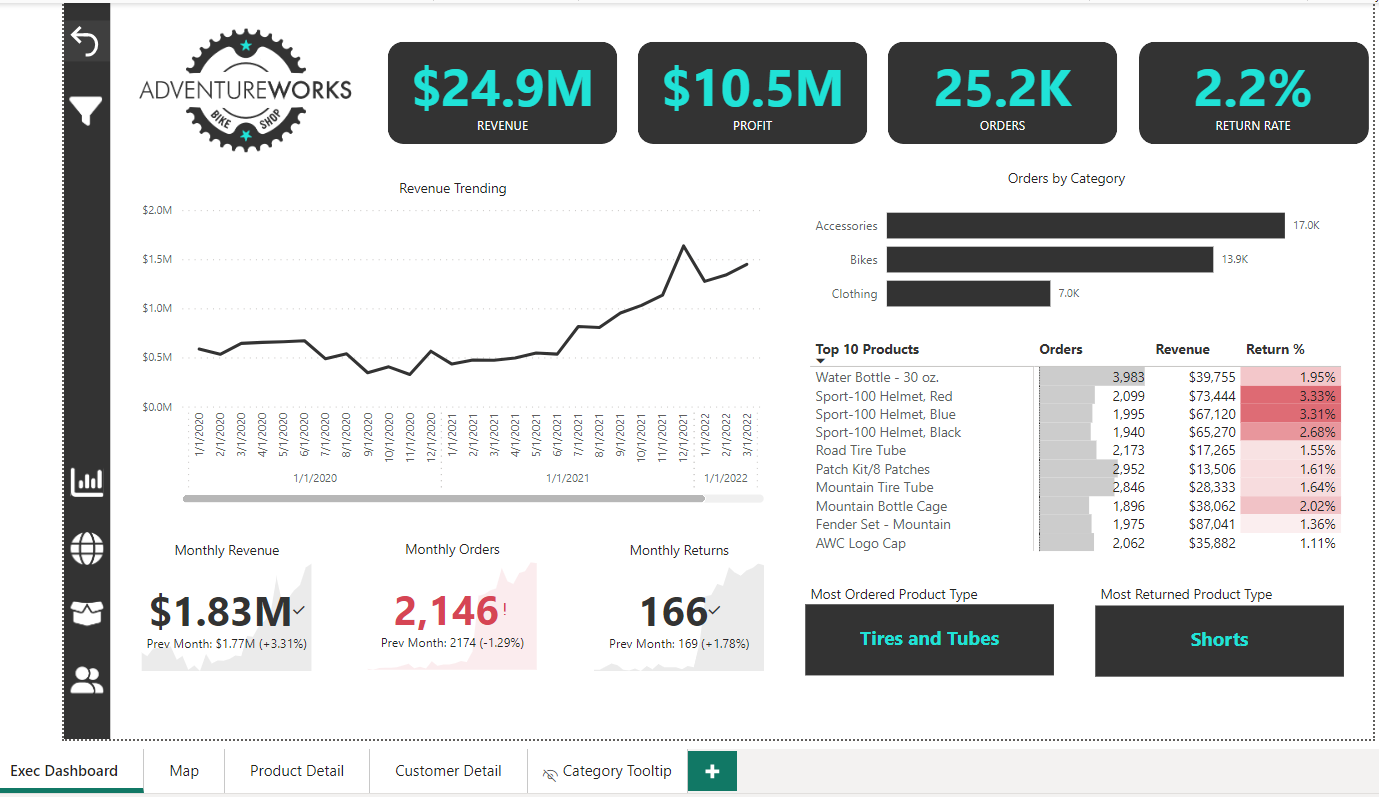

The dashboard page shown, as its layout file describes it:
{"tool":"powerbi","page":{"name":"Exec Dashboard","canvas":[1280,720],"ordinal":0},"visuals":[{"type":"card","fields":{"Values":["Measure Table.Total Revenue"]},"box":[295.3,11.8,266.7,150],"z":0,"group":"g2"},{"type":"image","title":"AW Logo","box":[45.2,17.1,265.3,136.9],"z":0},{"type":"group","id":"g1","title":"KPI BG","box":[316.4,37.4,959.1,100.2],"z":0,"group":"g3"},{"type":"shape","box":[316.4,37.4,224.4,100],"z":0,"group":"g1"},{"type":"actionButton","box":[2.8,513,40.3,40.3],"z":0,"group":"g4"},{"type":"shape","title":"Left Nav BG","box":[0,0,45.2,720],"z":1000},{"type":"group","id":"g2","title":"KPI Values","box":[295.3,11.8,984.4,150],"z":1000,"group":"g3"},{"type":"card","fields":{"Values":["Measure Table.Return Rate"]},"box":[1046.4,11.8,233.3,150],"z":1000,"group":"g2"},{"type":"shape","box":[561.1,37.4,224.4,100],"z":1000,"group":"g1"},{"type":"actionButton","box":[2.8,448.6,40.3,40.3],"z":1000,"group":"g4"},{"type":"group","id":"g3","title":"KPIs","box":[295.3,11.8,984.7,149.4],"z":2000},{"type":"card","fields":{"Values":["Measure Table.Total Profit"]},"box":[539.7,11.8,266.7,150],"z":2000,"group":"g2"},{"type":"shape","box":[805.8,37.4,224.4,100],"z":2000,"group":"g1"},{"type":"actionButton","box":[2.8,577.4,40.3,40.3],"z":2000,"group":"g4"},{"type":"card","fields":{"Values":["Measure Table.Total Orders"]},"box":[784.2,11.8,266.7,150],"z":3000,"group":"g2"},{"type":"shape","box":[1050.6,37.4,224.9,100.2],"z":3000,"group":"g1"},{"type":"lineChart","title":"Revenue Trending","fields":{"Y":["Measure Table.Total Revenue"],"Category":["Calendar Lookup.Date Hierarchy.Start of Year","Calendar Lookup.Date Hierarchy.Start of Month","Calendar Lookup.Date Hierarchy.Start of Week","Calendar Lookup.Date Hierarchy.Date"]},"box":[70.9,171.1,618.5,322.7],"z":3000},{"type":"actionButton","box":[2.8,641.7,40.3,40.3],"z":3000,"group":"g4"},{"type":"kpi","title":"Monthly Revenue","fields":{"Indicator":["Measure Table.Total Revenue"],"TrendLine":["Calendar Lookup.Date Hierarchy.Start of Month"],"Goal":["Measure Table.Previous Month Revenue"]},"box":[70.6,525.9,176.5,132.9],"z":4000},{"type":"kpi","title":"Monthly Orders","fields":{"TrendLine":["Calendar Lookup.Date Hierarchy.Start of Month"],"Indicator":["Measure Table.Total Orders"],"Goal":["Measure Table.Previous Month Orders"]},"box":[291.8,524.7,175.3,132.9],"z":5000},{"type":"kpi","title":"Monthly Returns","fields":{"TrendLine":["Calendar Lookup.Date Hierarchy.Start of Month"],"Indicator":["Measure Table.Total Returns"],"Goal":["Measure Table.Previous Month Return"]},"box":[512.9,525.9,176.5,132.9],"z":6000},{"type":"clusteredBarChart","title":"Orders by Category","fields":{"Category":["Product Categories Lookup.CategoryName"],"Y":["Measure Table.Total Orders"]},"box":[724.7,161.2,510.6,155.3],"z":7000},{"type":"pivotTable","fields":{"Rows":["Product Lookup.ProductName"],"Values":["Measure Table.Total Orders","Measure Table.Total Revenue","Measure Table.Return Rate"]},"box":[724.7,323.5,545.9,221.2],"z":8000},{"type":"card","fields":{"Values":["Min(Product Subcategories Lookup.SubcategoryName)"]},"box":[724.7,588.2,243.5,69.4],"z":9000},{"type":"textbox","box":[724.7,564.1,243.5,29.4],"z":10000},{"type":"card","fields":{"Values":["Min(Product Subcategories Lookup.SubcategoryName)"]},"box":[1008.2,589.4,243.5,69.4],"z":11000},{"type":"textbox","box":[1008.2,564.1,243.5,29.4],"z":12000},{"type":"actionButton","box":[0,17.1,45.2,40.3],"z":13000},{"type":"group","id":"g4","title":"Navigation Button","box":[2.8,448.6,41.6,233.5],"z":14000},{"type":"actionButton","box":[1.2,85.6,42.8,40.3],"z":15000}]}

Visuals, with their boxes on the page's 1280x720 design canvas (x1, y1, x2, y2). These are canvas units, not pixel positions in the 1379x797 screenshot, which may show the page scaled, cropped or inside an application window:
card - Measure Table.Total Revenue: bbox(295, 12, 562, 162)
"AW Logo" image: bbox(45, 17, 310, 154)
"KPI BG" group: bbox(316, 37, 1276, 138)
shape: bbox(316, 37, 541, 137)
actionButton: bbox(3, 513, 43, 553)
"Left Nav BG" shape: bbox(0, 0, 45, 720)
"KPI Values" group: bbox(295, 12, 1280, 162)
card - Measure Table.Return Rate: bbox(1046, 12, 1280, 162)
shape: bbox(561, 37, 786, 137)
actionButton: bbox(3, 449, 43, 489)
"KPIs" group: bbox(295, 12, 1280, 161)
card - Measure Table.Total Profit: bbox(540, 12, 806, 162)
shape: bbox(806, 37, 1030, 137)
actionButton: bbox(3, 577, 43, 618)
card - Measure Table.Total Orders: bbox(784, 12, 1051, 162)
shape: bbox(1051, 37, 1276, 138)
"Revenue Trending" lineChart: bbox(71, 171, 689, 494)
actionButton: bbox(3, 642, 43, 682)
"Monthly Revenue" kpi: bbox(71, 526, 247, 659)
"Monthly Orders" kpi: bbox(292, 525, 467, 658)
"Monthly Returns" kpi: bbox(513, 526, 689, 659)
"Orders by Category" clusteredBarChart: bbox(725, 161, 1235, 316)
pivotTable - Product Lookup.ProductName x Measure Table.Total Orders: bbox(725, 324, 1271, 545)
card - Min(Product Subcategories Lookup.SubcategoryName): bbox(725, 588, 968, 658)
textbox: bbox(725, 564, 968, 594)
card - Min(Product Subcategories Lookup.SubcategoryName): bbox(1008, 589, 1252, 659)
textbox: bbox(1008, 564, 1252, 594)
actionButton: bbox(0, 17, 45, 57)
"Navigation Button" group: bbox(3, 449, 44, 682)
actionButton: bbox(1, 86, 44, 126)
